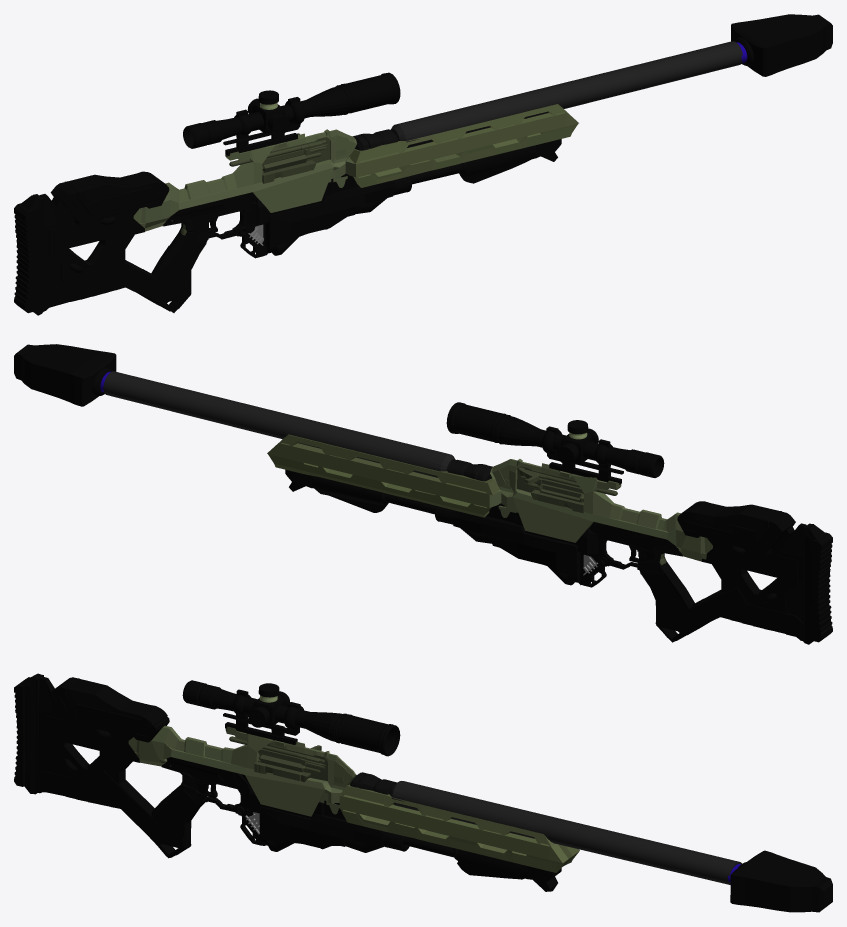
The model's file is sniper.fbx.
3 views of the same model, one above another, from view 1: azimuth 30°, elevation 25°; view 2: azimuth 150°, elevation 25°; view 3: azimuth 330°, elevation 25° (orthographic).
Parts seen in each view (by area): view 1: pCube50; view 2: pCube50; view 3: pCube50.
Boxes of the visible parts, x1,y1,x2,y2 form: pCube50: (14, 14, 832, 315); pCube50: (14, 344, 832, 644); pCube50: (14, 673, 832, 912).
Bounding box in the file's own units: 17.46 × 3.99 × 1.26.
